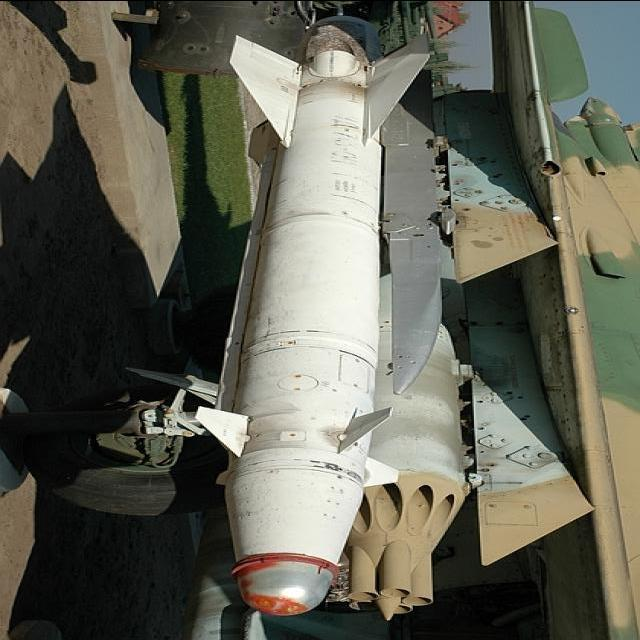missile: (198, 21, 427, 629)
